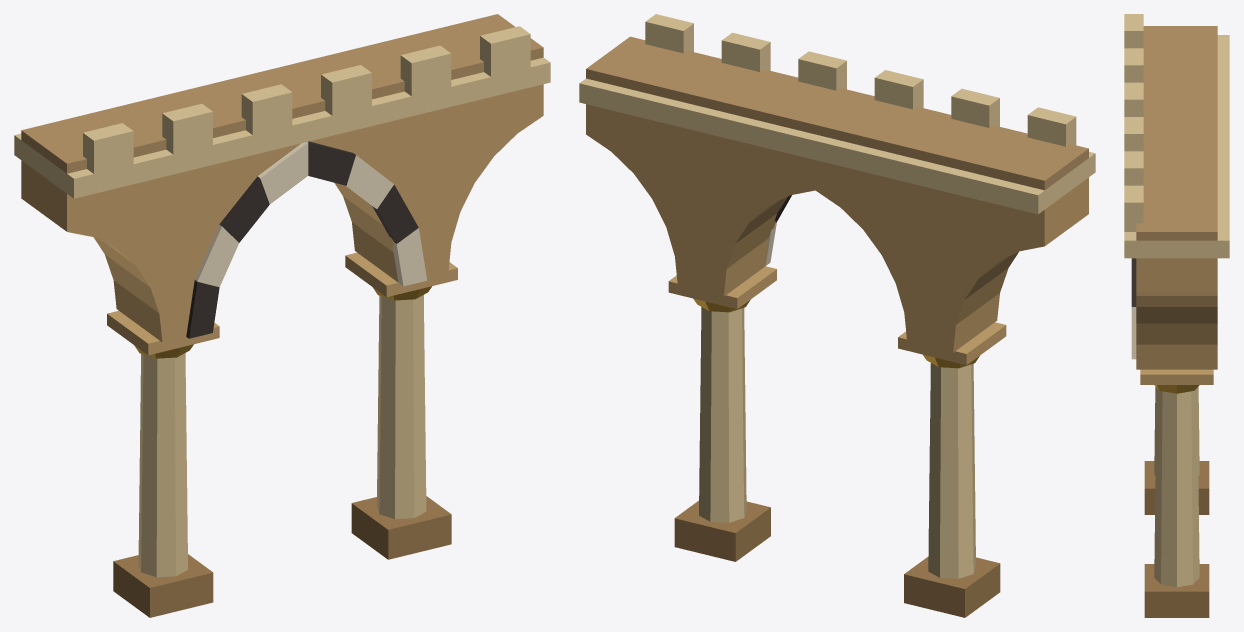
The model's file is desert_colonnade.glb.
The picture shows the model from 3 angles, left to right: view 1: azimuth 30°, elevation 25°; view 2: azimuth 150°, elevation 25°; view 3: azimuth 270°, elevation 25°; orthographic projection. The views are drawn at different scales.
Visible parts, largest first — view 1: desert_colonnade; view 2: desert_colonnade; view 3: desert_colonnade.
Boxes of the visible parts, x1,y1,x2,y2 form: desert_colonnade: (14,14,550,617); desert_colonnade: (579,14,1095,617); desert_colonnade: (1124,14,1229,617).
Size of the model in its own units: 6 by 6.04 by 1.3.
